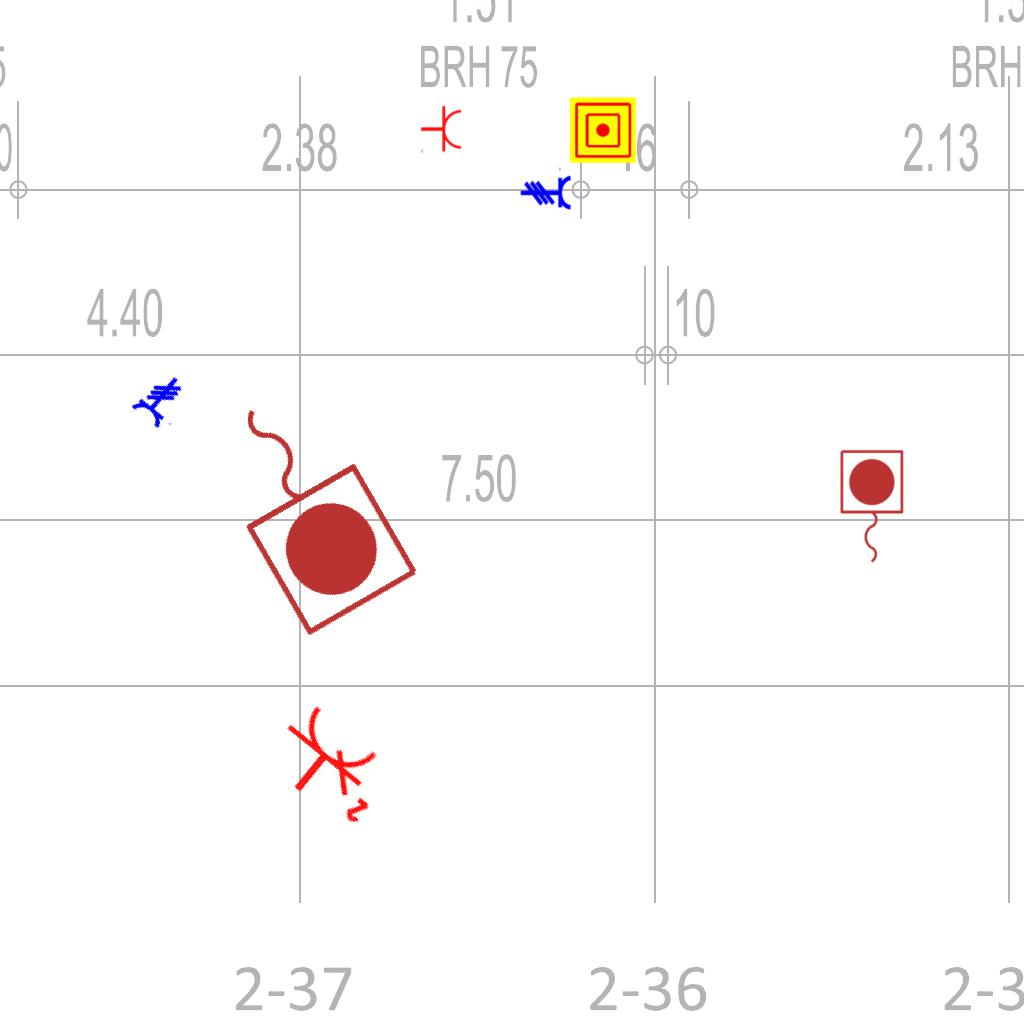CEE_Drehstrom_Steckdose_16_32_A: (129, 366, 198, 436), (520, 166, 572, 211)
NAM-Nichtautomatischer_Melder: (570, 97, 636, 163)
Schukosteckdose_einfach: (420, 105, 463, 155)
Schukosteckdose_mehrfach: (253, 693, 404, 839)
Zugtaster: (184, 363, 432, 647), (835, 446, 907, 568)
